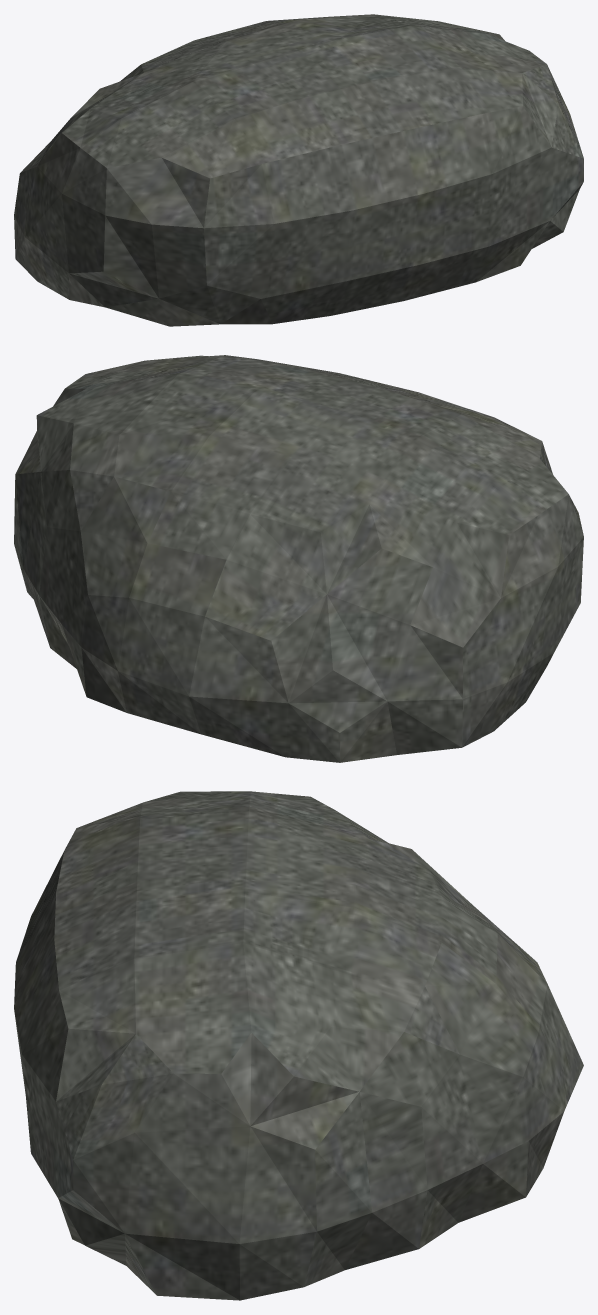
Rendered from rock_rock_2.glb.
The picture shows the model from 3 angles, top to bottom: view 1: azimuth 30°, elevation 25°; view 2: azimuth 150°, elevation 25°; view 3: azimuth 270°, elevation 25°; orthographic projection. The views are drawn at different scales.
Visible parts, largest first — view 1: Rock02v3_Rock02.002; view 2: Rock02v3_Rock02.002; view 3: Rock02v3_Rock02.002.
Part boxes in pixels (bbox=[...]): Rock02v3_Rock02.002: bbox=[14, 14, 583, 326]; Rock02v3_Rock02.002: bbox=[14, 355, 583, 762]; Rock02v3_Rock02.002: bbox=[14, 791, 583, 1300].
Size of the model in its own units: 0.69 by 0.307 by 0.534.
1 material, 1 textured.
